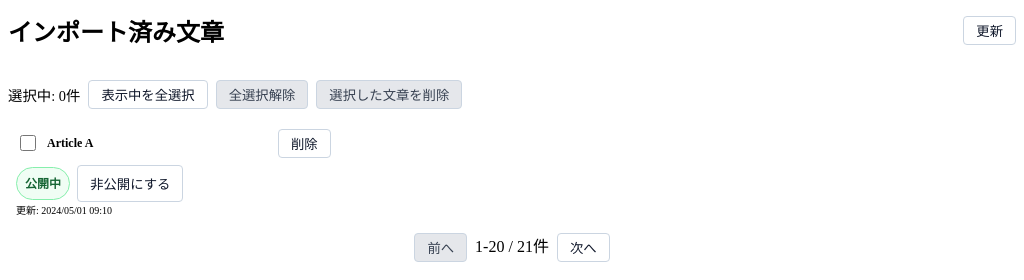
Test: ArticleListPanel › shows a page-empty state when the current Reader page is out of range
Check: the text "Article A" is shown, box x1=47 y1=136 x2=93 y2=150
Click the button "次へ".
click(583, 247)  # box x1=557 y1=233 x2=610 y2=262
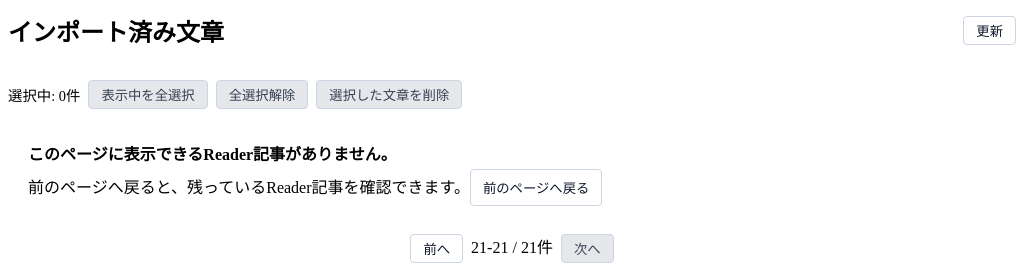
Check: the text "このページに表示できるReader記事がありません。" is shown, box x1=28 y1=146 x2=397 y2=163
Click the button "前のページへ戻る".
click(536, 187)  # box x1=470 y1=169 x2=602 y2=206
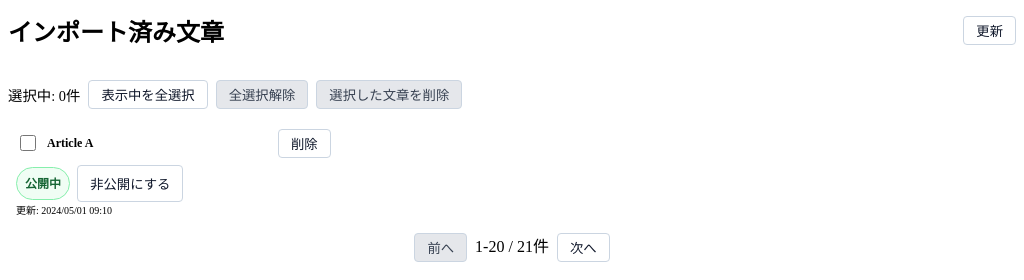
Check: the text "Article A" is shown, box x1=47 y1=136 x2=93 y2=150
